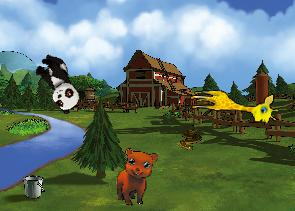bear: (116, 148, 158, 206)
giraffe: (188, 89, 279, 124)
panda: (28, 49, 89, 116)
